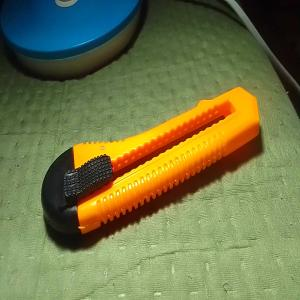estilete: (39, 87, 260, 237)
